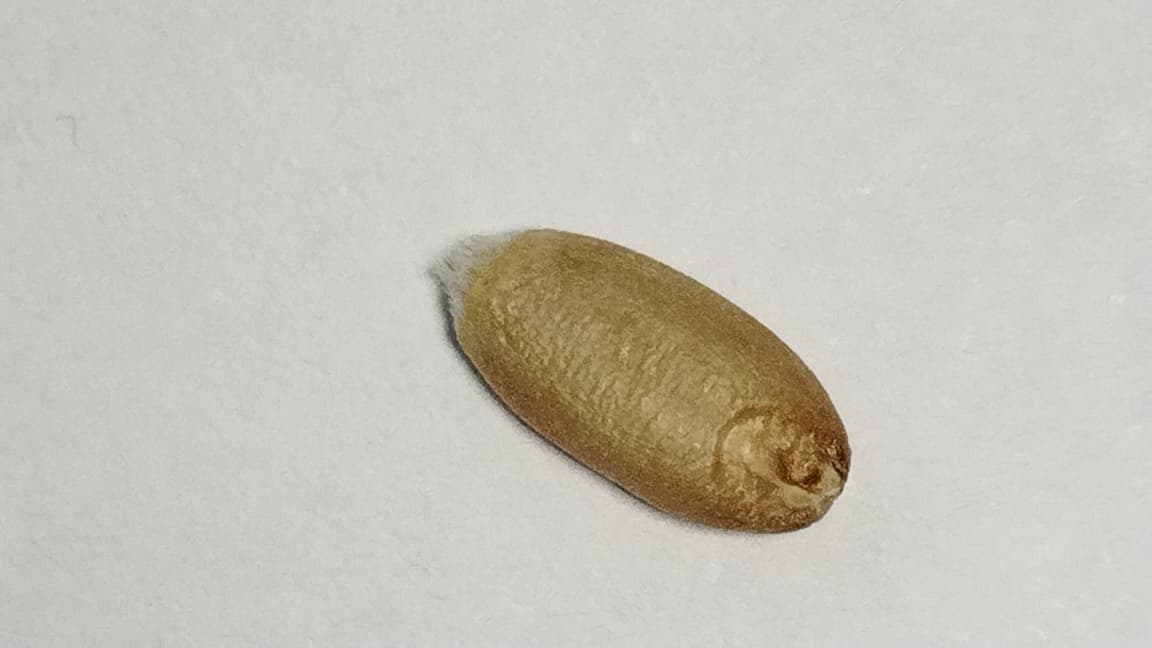healthy: (442, 230, 848, 531)
